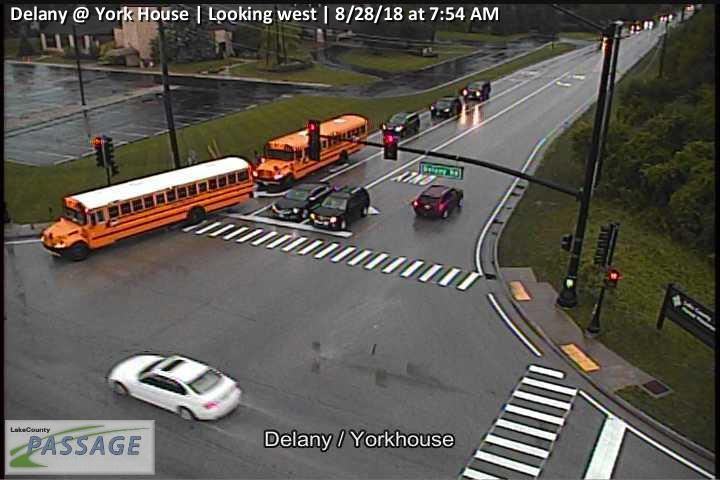Bus: (42, 156, 257, 260), (252, 113, 370, 192)
SUV: (310, 185, 370, 230), (271, 182, 332, 223), (412, 184, 464, 220), (380, 110, 420, 139), (429, 95, 463, 117), (462, 79, 491, 102)
Sedan: (105, 351, 243, 428)
